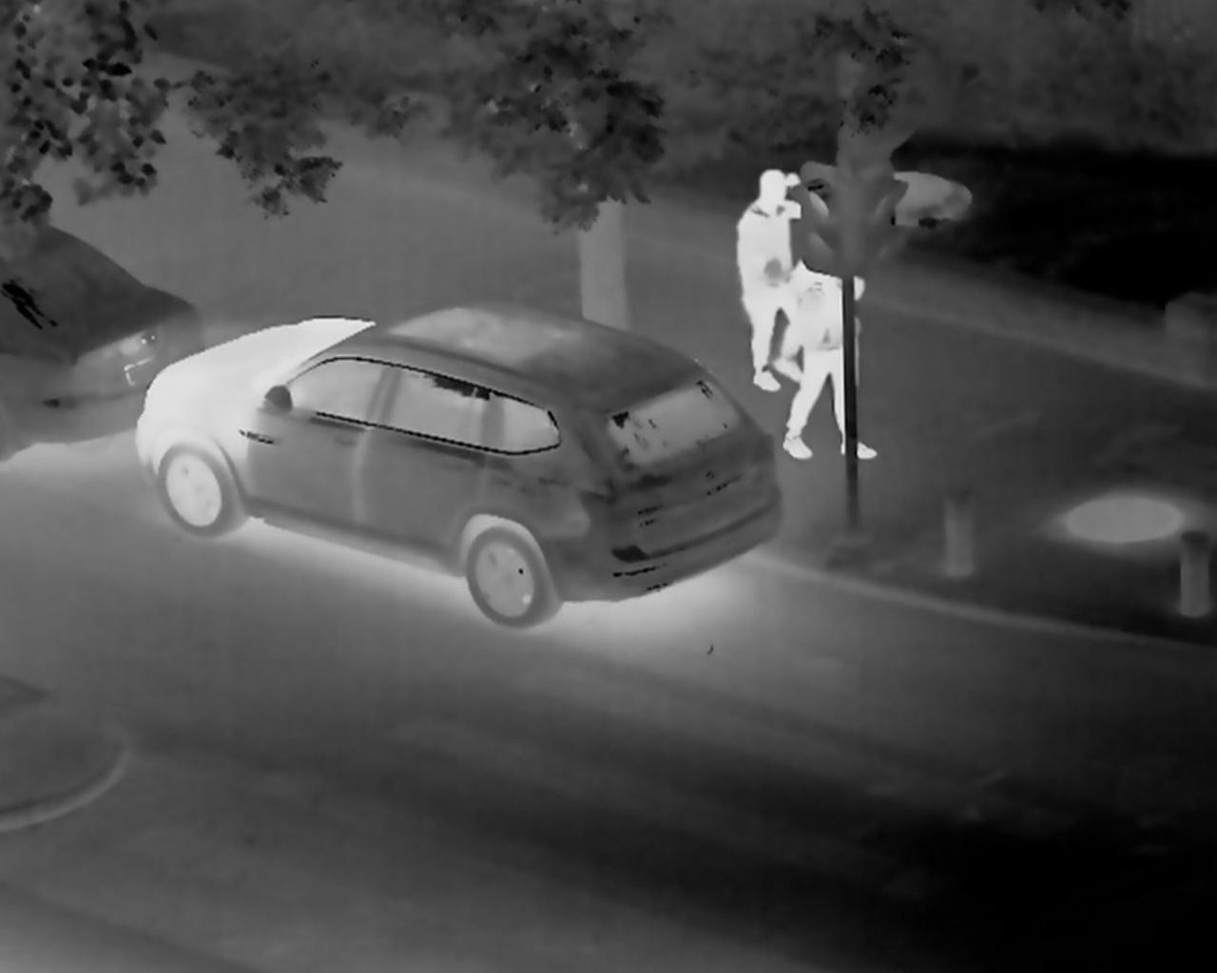person: (782, 234, 874, 461), (732, 162, 803, 392)
